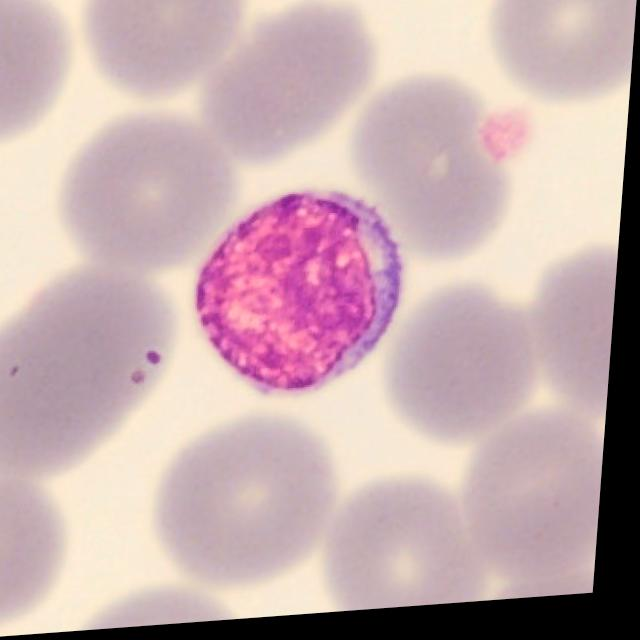Linfocito: (198, 194, 410, 400)
